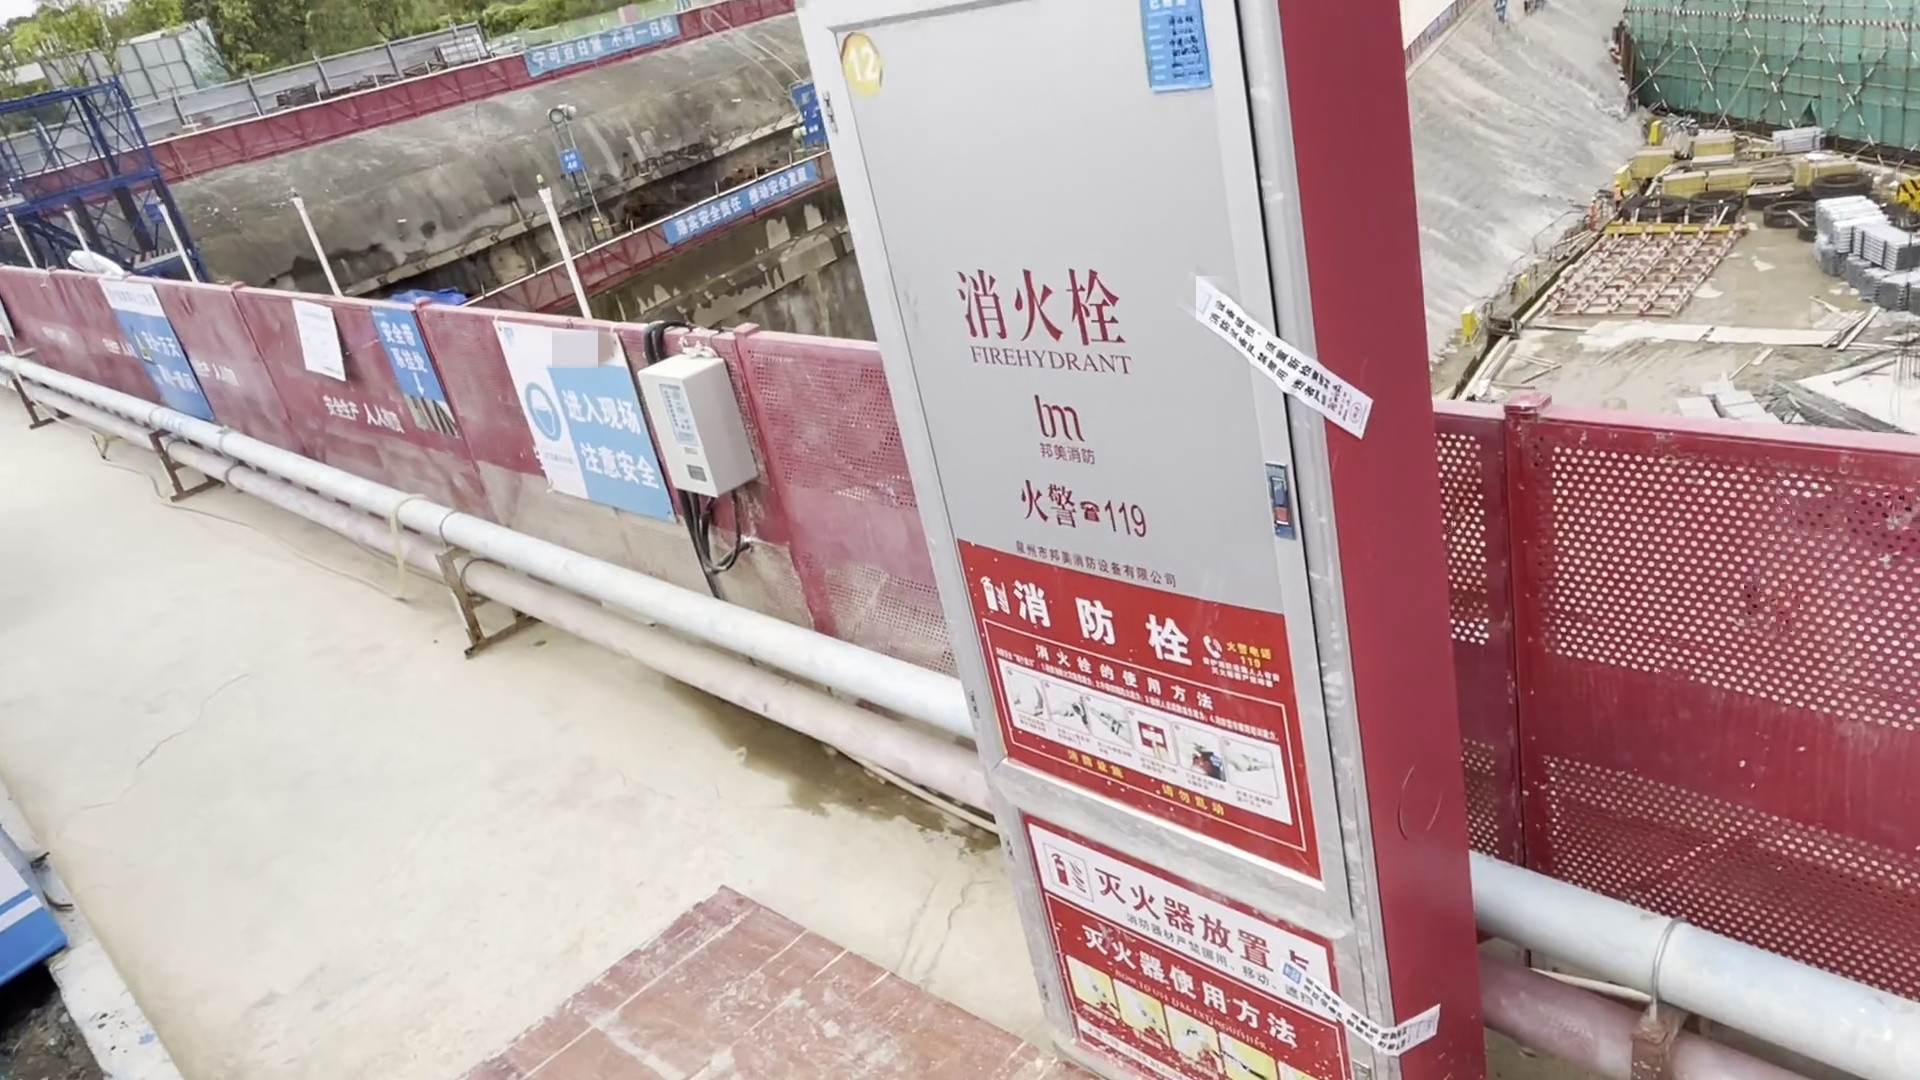board: (404, 868, 1011, 1080)
fence: (1462, 400, 1920, 1007)
slogan: (485, 318, 691, 537), (80, 270, 215, 435), (509, 13, 713, 91), (659, 157, 825, 247), (291, 309, 451, 398)
